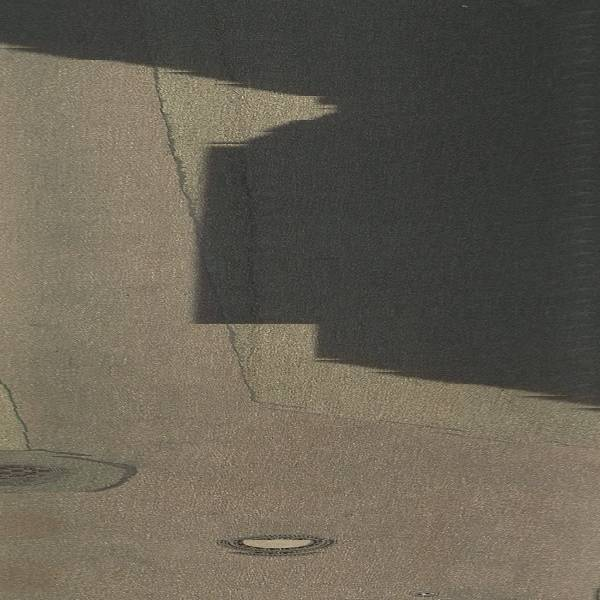road_damage: (164, 102, 260, 407), (1, 440, 147, 501)
